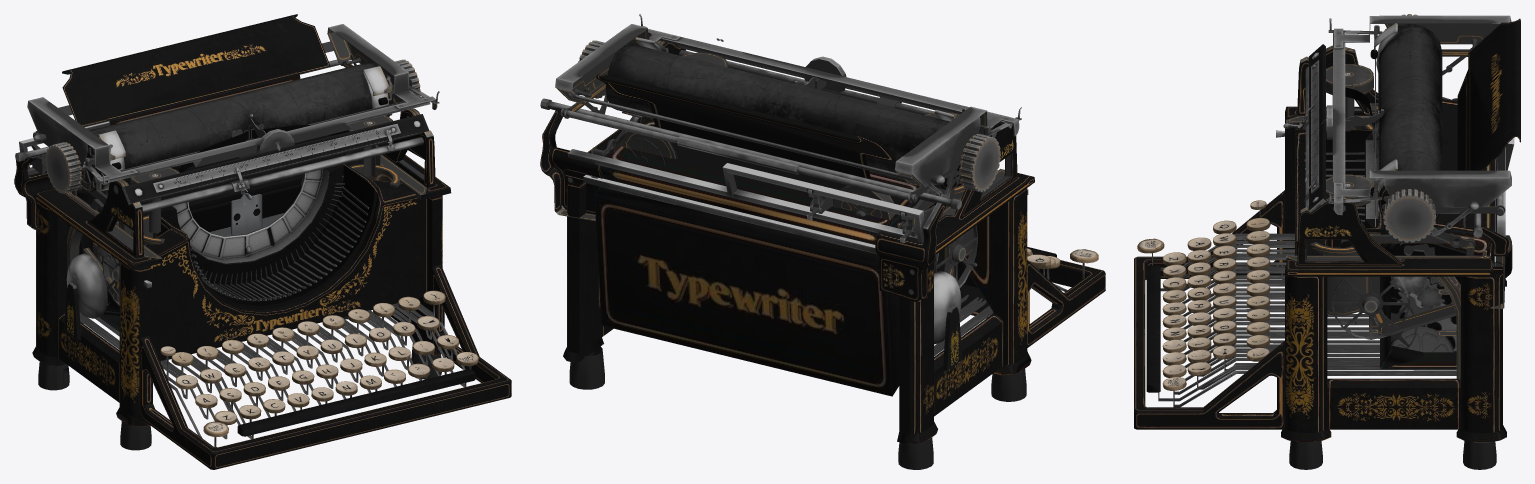
File: victorian_typewriter.glb
3 views of the same model, side by side, from view 1: azimuth 30°, elevation 25°; view 2: azimuth 150°, elevation 25°; view 3: azimuth 270°, elevation 25° (orthographic). The views are drawn at different scales.
Visible parts, largest first — view 1: Maquina_de_escribir:maquina, Maquina_de_escribir:maquina1, Maquina_de_escribir:maquina4, Maquina_de_escribir:polySurface12, Maquina_de_escribir:polySurface103, Maquina_de_escribir:polySurface109, Maquina_de_escribir:polySurface104; view 2: Maquina_de_escribir:maquina1, Maquina_de_escribir:polySurface12, Maquina_de_escribir:polySurface103, Maquina_de_escribir:polySurface109, Maquina_de_escribir:maquina, Maquina_de_escribir:polySurface104, Maquina_de_escribir:maquina4; view 3: Maquina_de_escribir:maquina, Maquina_de_escribir:maquina1, Maquina_de_escribir:polySurface104, Maquina_de_escribir:maquina4, Maquina_de_escribir:polySurface12, Maquina_de_escribir:polySurface103, Maquina_de_escribir:polySurface109.
Part boxes in pixels (<box>): Maquina_de_escribir:maquina: <box>140,163,511,469</box>; Maquina_de_escribir:maquina1: <box>62,14,393,331</box>; Maquina_de_escribir:maquina4: <box>79,183,478,446</box>; Maquina_de_escribir:polySurface12: <box>15,41,430,340</box>; Maquina_de_escribir:polySurface103: <box>14,97,249,323</box>; Maquina_de_escribir:polySurface109: <box>32,201,151,450</box>; Maquina_de_escribir:polySurface104: <box>251,24,451,199</box>; Maquina_de_escribir:maquina1: <box>594,43,960,396</box>; Maquina_de_escribir:polySurface12: <box>540,37,1028,370</box>; Maquina_de_escribir:polySurface103: <box>807,106,1034,302</box>; Maquina_de_escribir:polySurface109: <box>897,188,1031,469</box>; Maquina_de_escribir:maquina: <box>563,177,1105,389</box>; Maquina_de_escribir:polySurface104: <box>540,14,727,308</box>; Maquina_de_escribir:maquina4: <box>934,247,1098,356</box>; Maquina_de_escribir:maquina: <box>1134,123,1506,469</box>; Maquina_de_escribir:maquina1: <box>1378,18,1520,369</box>; Maquina_de_escribir:polySurface104: <box>1285,121,1512,379</box>; Maquina_de_escribir:maquina4: <box>1137,152,1456,407</box>; Maquina_de_escribir:polySurface12: <box>1276,32,1514,266</box>; Maquina_de_escribir:polySurface103: <box>1285,14,1511,129</box>; Maquina_de_escribir:polySurface109: <box>1282,117,1506,286</box>.
Bounding box in the file's own units: 0.3833 × 0.2911 × 0.33.
5 materials, 5 textured.
